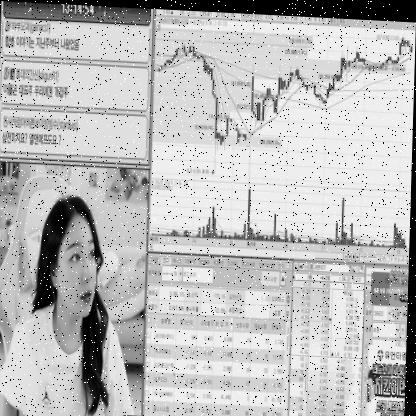streamer: (0, 190, 143, 416)
